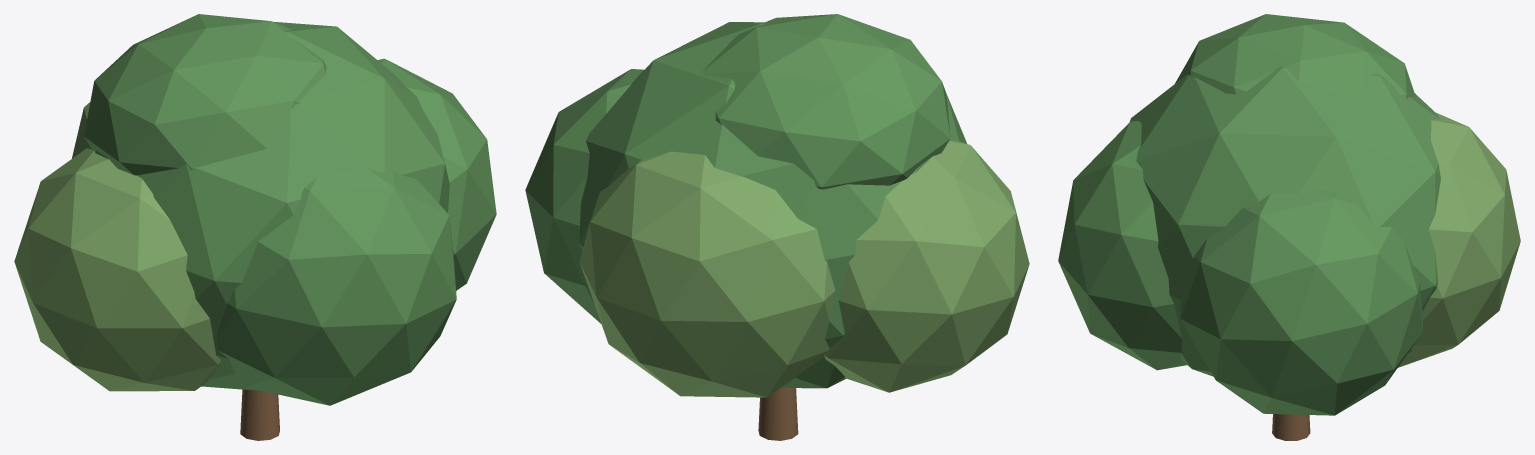
Rendered from bush_round_boxwood.glb.
3 renders of one model, left to right at view 1: azimuth 30°, elevation 25°; view 2: azimuth 150°, elevation 25°; view 3: azimuth 270°, elevation 25°, orthographic. The views are drawn at different scales.
Parts seen in each view (by area): view 1: Boxwood_Leaf_Lobe_2, Boxwood_Leaf_Lobe_0, Boxwood_Central_Round_Crown, Boxwood_Leaf_Lobe_4, Boxwood_Leaf_Lobe_1, Boxwood_Main_Stem; view 2: Boxwood_Leaf_Lobe_3, Boxwood_Leaf_Lobe_0, Boxwood_Leaf_Lobe_4, Boxwood_Central_Round_Crown, Boxwood_Leaf_Lobe_1, Boxwood_Main_Stem; view 3: Boxwood_Central_Round_Crown, Boxwood_Leaf_Lobe_1, Boxwood_Leaf_Lobe_2, Boxwood_Leaf_Lobe_3, Boxwood_Leaf_Lobe_4, Boxwood_Main_Stem.
Boxes of the visible parts, box(x1,y1,x2,y2) form: Boxwood_Leaf_Lobe_2: box(216, 167, 456, 405); Boxwood_Leaf_Lobe_0: box(14, 148, 221, 391); Boxwood_Central_Round_Crown: box(78, 21, 449, 390); Boxwood_Leaf_Lobe_4: box(84, 14, 326, 175); Boxwood_Leaf_Lobe_1: box(377, 58, 496, 290); Boxwood_Main_Stem: box(240, 389, 279, 440); Boxwood_Leaf_Lobe_3: box(579, 151, 835, 397); Boxwood_Leaf_Lobe_0: box(824, 140, 1029, 392); Boxwood_Leaf_Lobe_4: box(701, 14, 950, 189); Boxwood_Central_Round_Crown: box(579, 22, 966, 388); Boxwood_Leaf_Lobe_1: box(525, 69, 644, 323); Boxwood_Main_Stem: box(758, 388, 798, 440); Boxwood_Central_Round_Crown: box(1130, 67, 1440, 376); Boxwood_Leaf_Lobe_1: box(1180, 189, 1423, 415); Boxwood_Leaf_Lobe_2: box(1058, 120, 1186, 370); Boxwood_Leaf_Lobe_3: box(1398, 112, 1520, 367); Boxwood_Leaf_Lobe_4: box(1175, 14, 1415, 99); Boxwood_Main_Stem: box(1272, 414, 1310, 440).
Bounding box in the file's own units: 0.9115 × 0.7788 × 0.8445.
